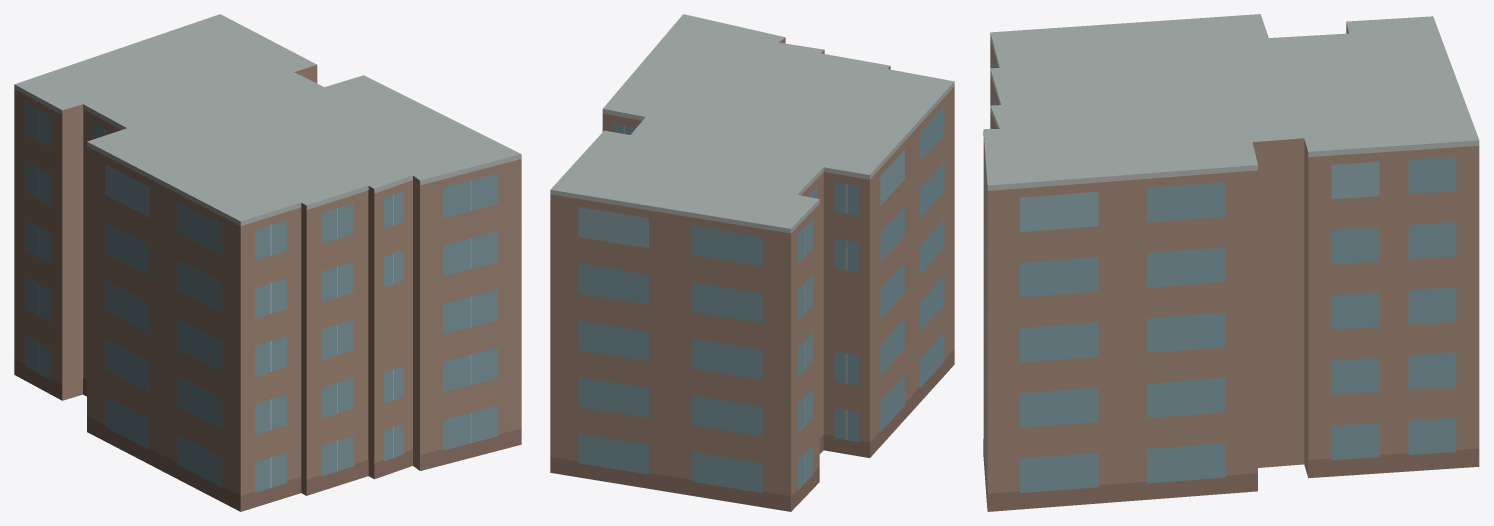
Rendered from survey-upis-33017543.glb.
3 views of the same model, side by side, from view 1: azimuth 30°, elevation 25°; view 2: azimuth 150°, elevation 25°; view 3: azimuth 270°, elevation 25° (orthographic). The views are drawn at different scales.
Parts seen in each view (by area): view 1: survey-upis-33017543.tmp; view 2: survey-upis-33017543.tmp; view 3: survey-upis-33017543.tmp.
Boxes of the visible parts, left/top/right/bottom form: survey-upis-33017543.tmp: left=14, top=14, right=521, bottom=511; survey-upis-33017543.tmp: left=550, top=14, right=954, bottom=511; survey-upis-33017543.tmp: left=983, top=14, right=1479, bottom=511.
Size of the model in its own units: 16.88 by 14.95 by 20.61.
